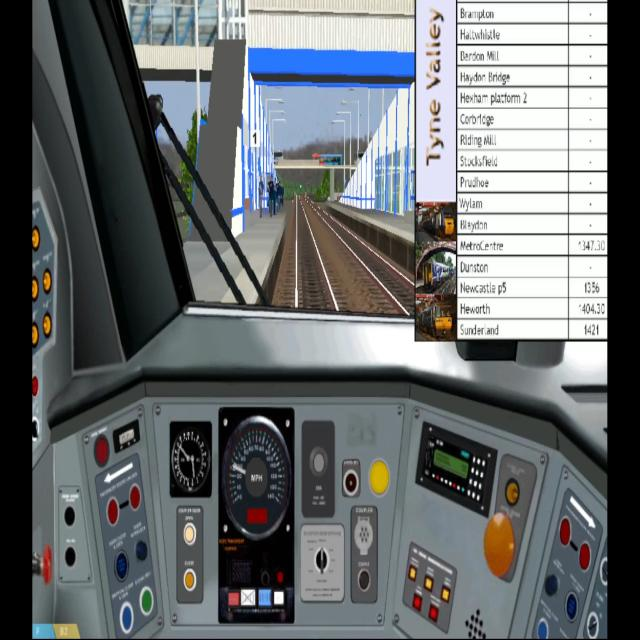Person: (268, 173, 286, 214), (257, 174, 264, 218)
Platform: (183, 196, 290, 308), (321, 197, 415, 274)
Spedometer: (217, 405, 296, 629)
Station: (122, 0, 415, 243)
Track: (304, 198, 416, 319), (273, 190, 350, 313)
